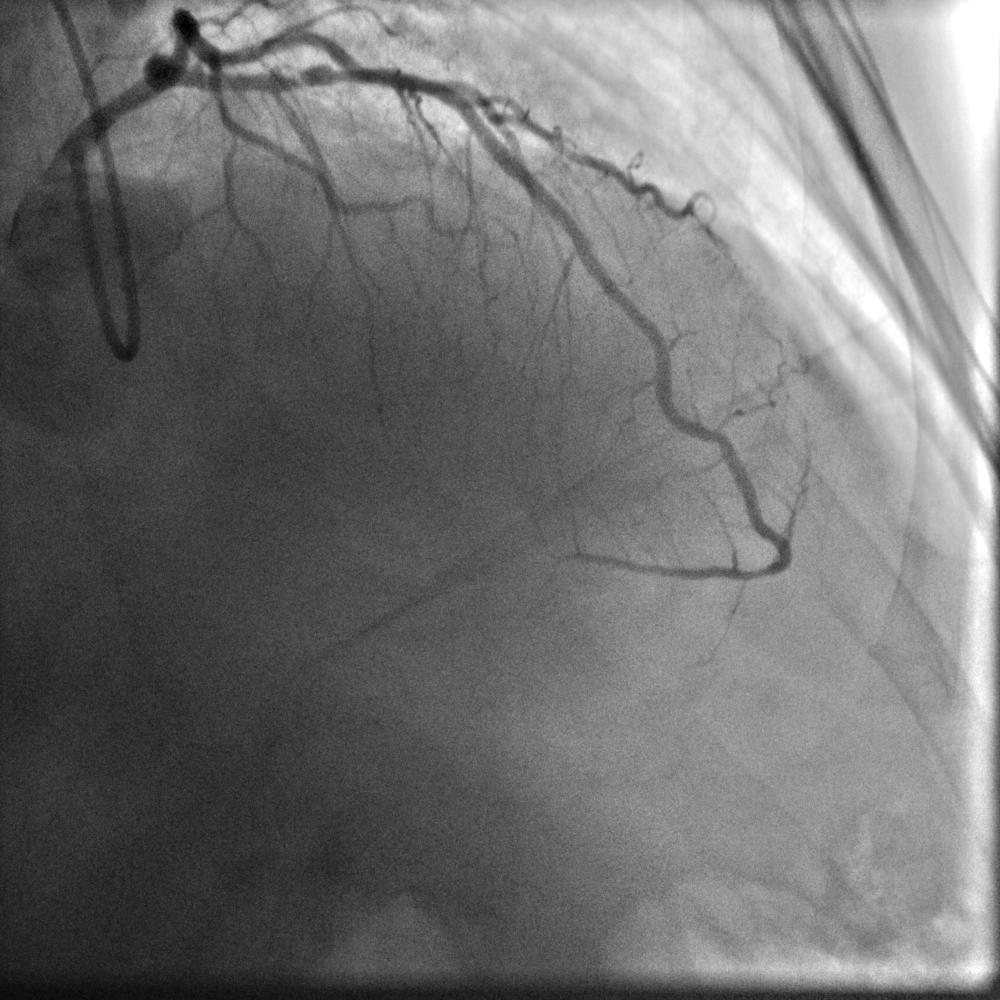Stenosis: (287, 69, 312, 90)
